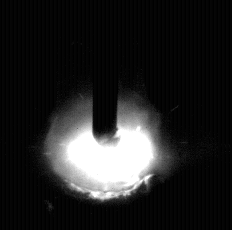arame: (93, 0, 119, 145)
poca: (44, 0, 162, 230)
